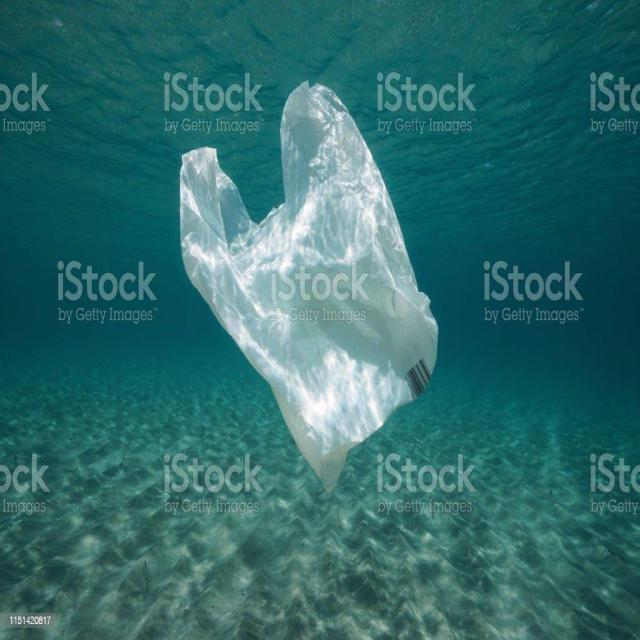KantongPlastik: (177, 79, 440, 493)
